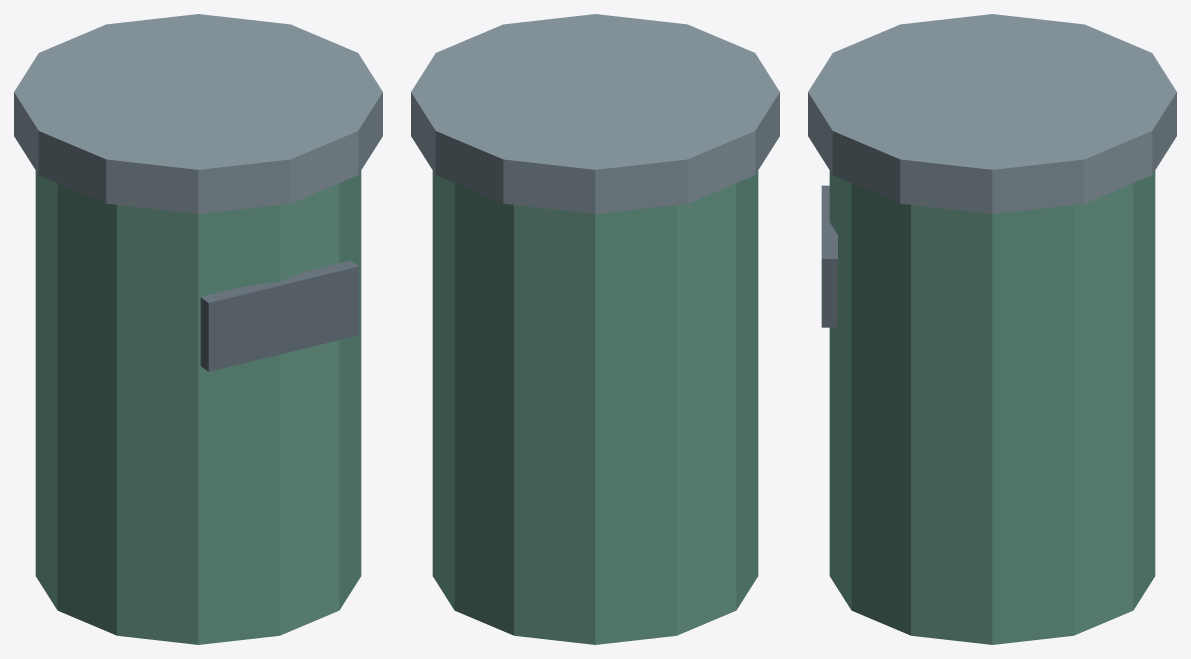
Rendered from trash_bin.glb.
The picture shows the model from 3 angles, left to right: view 1: azimuth 30°, elevation 25°; view 2: azimuth 150°, elevation 25°; view 3: azimuth 270°, elevation 25°; orthographic projection.
Parts seen in each view (by area): view 1: trash_bin_000, trash_bin_001, trash_bin_002; view 2: trash_bin_000, trash_bin_001; view 3: trash_bin_000, trash_bin_001, trash_bin_002.
Part boxes in pixels (<box>): trash_bin_000: <box>35,171,361,644</box>; trash_bin_001: <box>14,14,382,213</box>; trash_bin_002: <box>200,260,358,371</box>; trash_bin_000: <box>432,171,758,644</box>; trash_bin_001: <box>411,14,779,213</box>; trash_bin_000: <box>829,171,1155,644</box>; trash_bin_001: <box>808,14,1176,213</box>; trash_bin_002: <box>821,185,837,327</box>.
Size of the model in its own units: 0.68 by 0.985 by 0.68.
